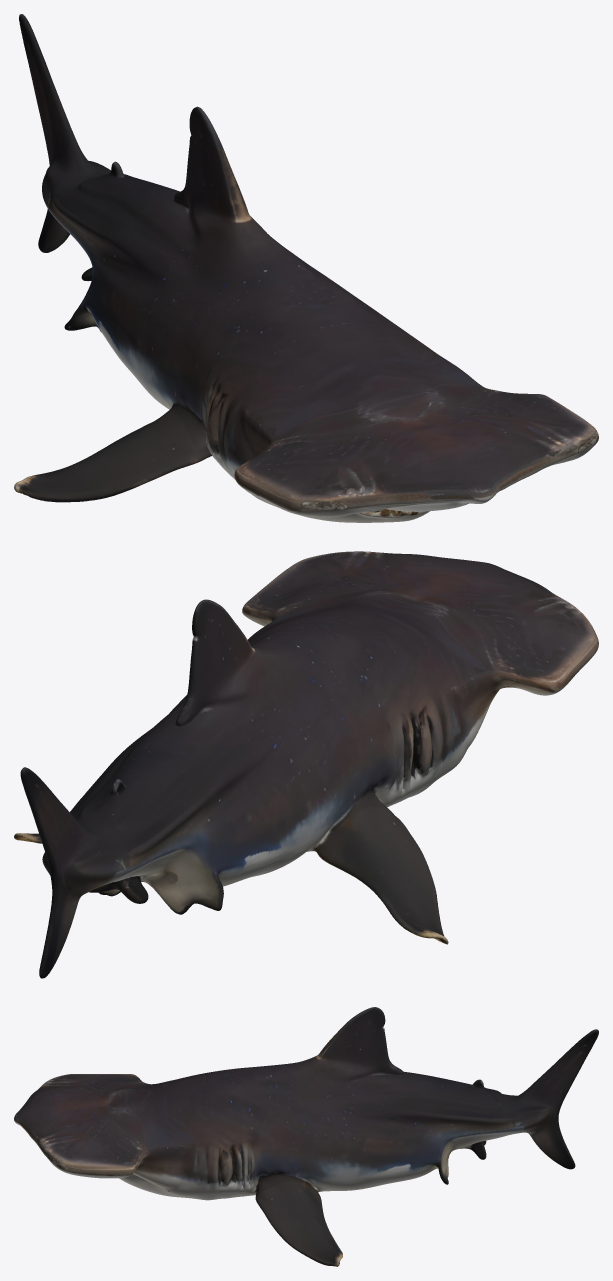
Rendered from hammer_f2.glb.
The picture shows the model from 3 angles, top to bottom: view 1: azimuth 30°, elevation 25°; view 2: azimuth 150°, elevation 25°; view 3: azimuth 270°, elevation 25°; orthographic projection. The views are drawn at different scales.
Parts seen in each view (by area): view 1: tripo_node_edd28b6f-6883-4924-81f4-949662635f89; view 2: tripo_node_edd28b6f-6883-4924-81f4-949662635f89; view 3: tripo_node_edd28b6f-6883-4924-81f4-949662635f89.
Part boxes in pixels (x1,y1,x2,y2): tripo_node_edd28b6f-6883-4924-81f4-949662635f89: (14,14,598,522); tripo_node_edd28b6f-6883-4924-81f4-949662635f89: (14,551,598,978); tripo_node_edd28b6f-6883-4924-81f4-949662635f89: (14,1007,598,1266).
Bounding box in the file's own units: 0.5309 × 0.3723 × 1.
1 material, 1 textured.
